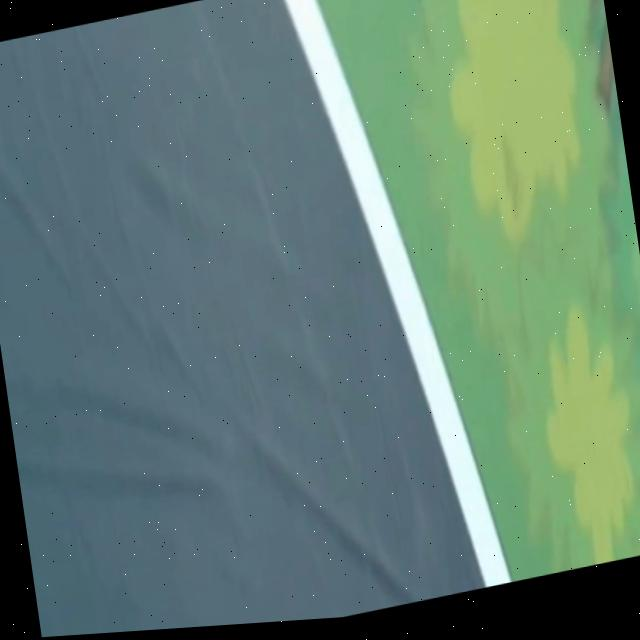right: (284, 0, 510, 587)
